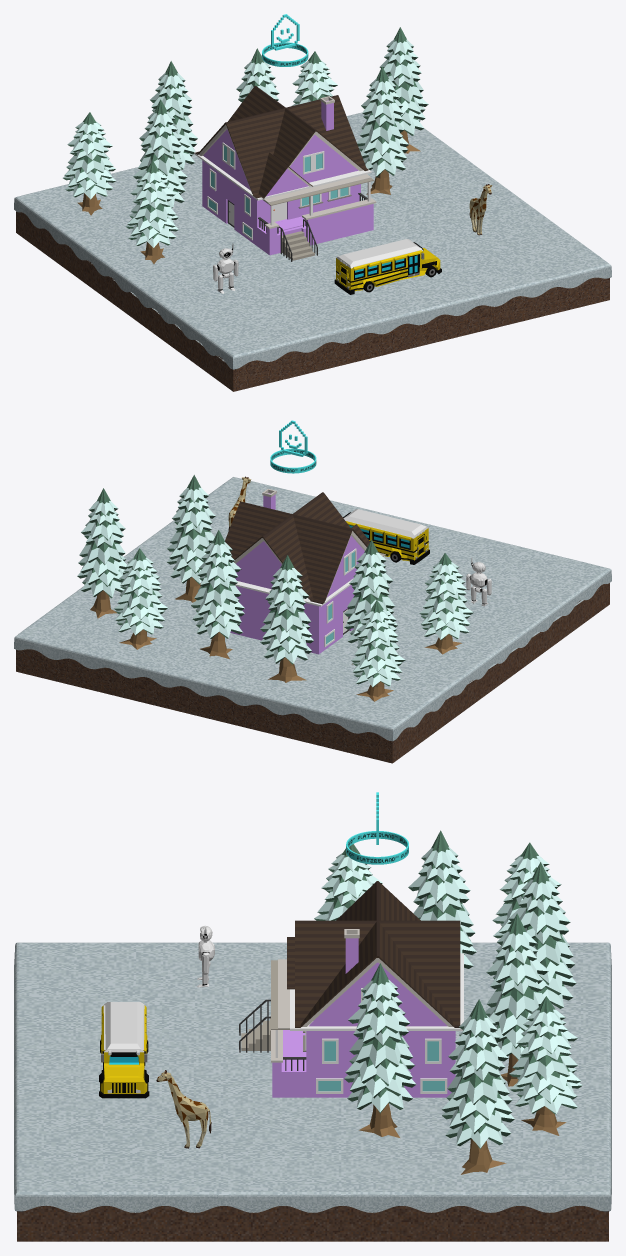
3 renders of one model, top to bottom at view 1: azimuth 30°, elevation 25°; view 2: azimuth 150°, elevation 25°; view 3: azimuth 270°, elevation 25°, orthographic. The views are drawn at different scales.
Parts seen in each view (by area): view 1: Cube.003, Cube.391, VEHICLES_SCHOOL_BUS, TYPE_PREMIUM, OBJRANDOM_PLATZEEBOT, ANIMAL_JIRAFA; view 2: Cube.003, Cube.391, VEHICLES_SCHOOL_BUS, TYPE_PREMIUM, OBJRANDOM_PLATZEEBOT; view 3: Cube.003, Cube.391, VEHICLES_SCHOOL_BUS, ANIMAL_JIRAFA, TYPE_PREMIUM, OBJRANDOM_PLATZEEBOT.
Part boxes in pixels (box(x1,y1,x2,y2)): Cube.003: box(14, 27, 611, 391); Cube.391: box(194, 85, 376, 261); VEHICLES_SCHOOL_BUS: box(334, 239, 441, 294); TYPE_PREMIUM: box(262, 14, 308, 66); OBJRANDOM_PLATZEEBOT: box(213, 243, 238, 293); ANIMAL_JIRAFA: box(469, 184, 492, 235); Cube.003: box(14, 475, 611, 763); Cube.391: box(225, 489, 388, 654); VEHICLES_SCHOOL_BUS: box(343, 509, 429, 564); TYPE_PREMIUM: box(270, 420, 316, 473); OBJRANDOM_PLATZEEBOT: box(466, 557, 491, 606); Cube.003: box(14, 830, 611, 1241); Cube.391: box(239, 881, 463, 1097); VEHICLES_SCHOOL_BUS: box(99, 1002, 149, 1098); ANIMAL_JIRAFA: box(156, 1070, 211, 1148); TYPE_PREMIUM: box(346, 792, 408, 864); OBJRANDOM_PLATZEEBOT: box(197, 925, 214, 987).
Bounding box in the file's own units: 4040 × 2490 × 4040.
Materials: 40 (5 with a texture image).
